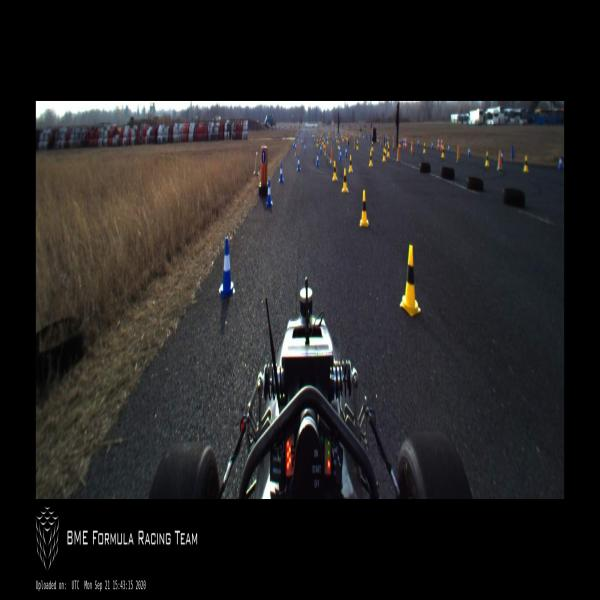blue_cone: (219, 236, 236, 299), (266, 179, 273, 207), (278, 164, 284, 182), (296, 156, 301, 172), (558, 155, 562, 170), (316, 153, 320, 166), (468, 146, 471, 157), (344, 147, 347, 158), (339, 151, 342, 161), (501, 150, 503, 164), (319, 145, 322, 154), (301, 138, 304, 145), (448, 143, 450, 153), (304, 143, 306, 153), (338, 145, 340, 154), (431, 141, 433, 150), (417, 138, 419, 146), (293, 142, 295, 149), (295, 142, 296, 151)
large_orange_cone: (437, 137, 440, 151), (441, 138, 444, 152), (404, 136, 407, 150), (403, 137, 406, 150)
yellow_cone: (400, 244, 420, 318), (360, 189, 368, 226), (341, 168, 348, 193), (332, 161, 338, 181), (523, 155, 529, 172), (485, 150, 489, 167), (348, 155, 352, 172), (369, 152, 373, 167), (382, 147, 386, 162), (386, 144, 390, 157), (441, 145, 445, 157), (423, 142, 426, 154), (356, 140, 359, 150), (398, 138, 401, 148), (385, 142, 387, 154), (371, 140, 373, 150), (338, 140, 340, 148), (324, 140, 326, 148), (327, 136, 329, 144), (316, 140, 318, 146), (377, 136, 379, 142)
